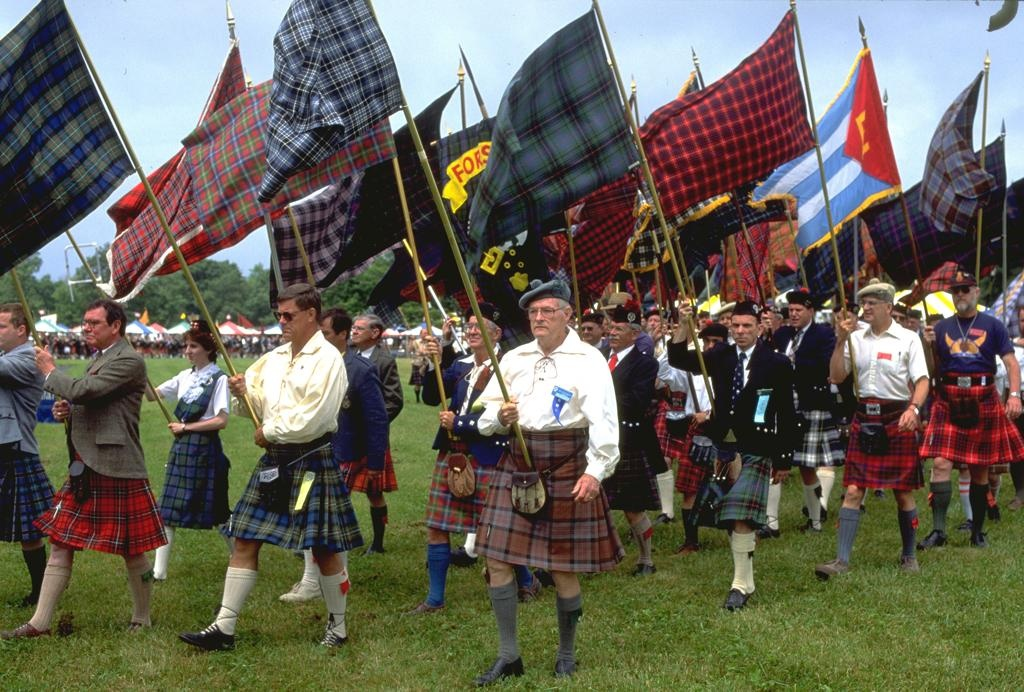human_face: (528, 300, 562, 336), (277, 302, 307, 340), (84, 312, 110, 344), (468, 316, 494, 346), (731, 314, 755, 346), (608, 321, 632, 347), (0, 311, 17, 347), (862, 294, 884, 320), (952, 284, 974, 310), (185, 339, 205, 363), (319, 318, 339, 342), (788, 302, 808, 326), (350, 320, 370, 342), (704, 334, 722, 354), (580, 323, 598, 341), (837, 310, 853, 328), (890, 310, 904, 330), (718, 312, 732, 326), (760, 312, 774, 326), (904, 317, 918, 331), (648, 315, 660, 331), (1018, 310, 1024, 334)
